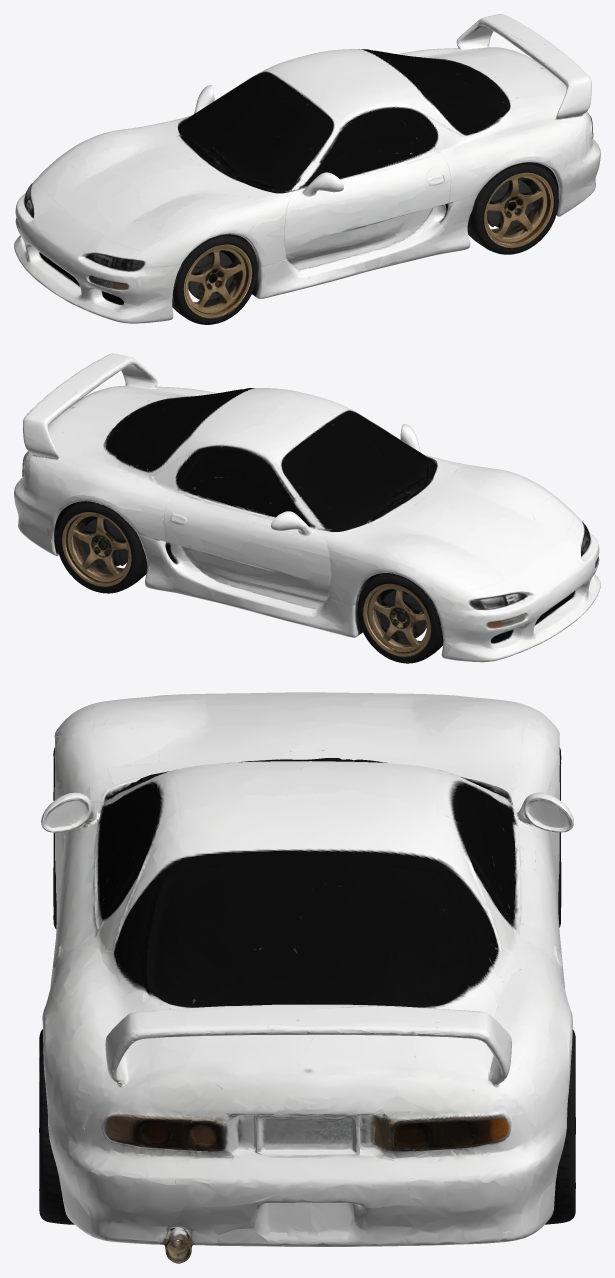
The model's file is rotary.glb.
The picture shows the model from 3 angles, top to bottom: view 1: azimuth 30°, elevation 25°; view 2: azimuth 150°, elevation 25°; view 3: azimuth 270°, elevation 25°; orthographic projection. The views are drawn at different scales.
Parts seen in each view (by area): view 1: Mesh_0; view 2: Mesh_0; view 3: Mesh_0.
Part boxes in pixels (x1=…): Mesh_0: x1=14, y1=14, x2=600, y2=324; Mesh_0: x1=14, y1=353, x2=600, y2=663; Mesh_0: x1=39, y1=692, x2=575, y2=1263.
Bounding box in the file's own units: 1.9 × 0.558 × 0.8573.
1 material, 1 textured.
